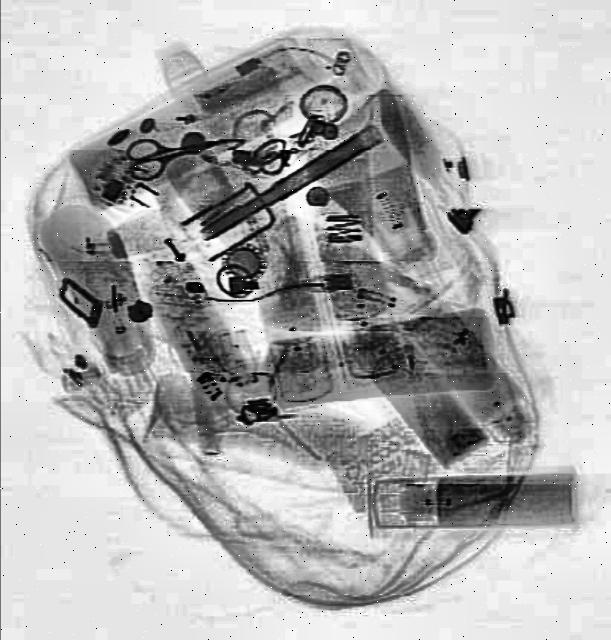Scissors: (121, 128, 215, 186)
